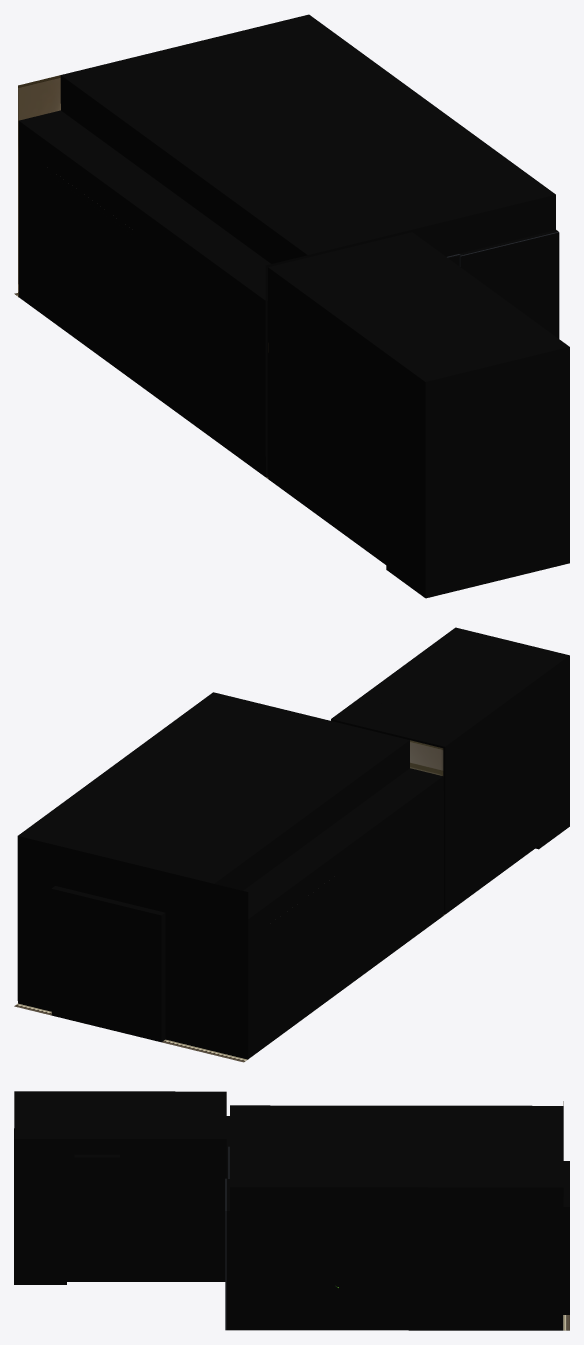
File: small_apartment_morning_version.glb
The picture shows the model from 3 angles, top to bottom: view 1: azimuth 30°, elevation 25°; view 2: azimuth 150°, elevation 25°; view 3: azimuth 270°, elevation 25°; orthographic projection. The views are drawn at different scales.
Visible parts, largest first — view 1: Material2 (×2); view 2: Material2 (×2); view 3: Material2 (×2).
Part boxes in pixels (x1=…): Material2 (×2): x1=14, y1=14, x2=569, y2=598; Material2 (×2): x1=14, y1=627, x2=569, y2=1062; Material2 (×2): x1=14, y1=1091, x2=569, y2=1330.
Size of the model in its own units: 2102 by 1482 by 5113.
8 materials, 8 textured.
